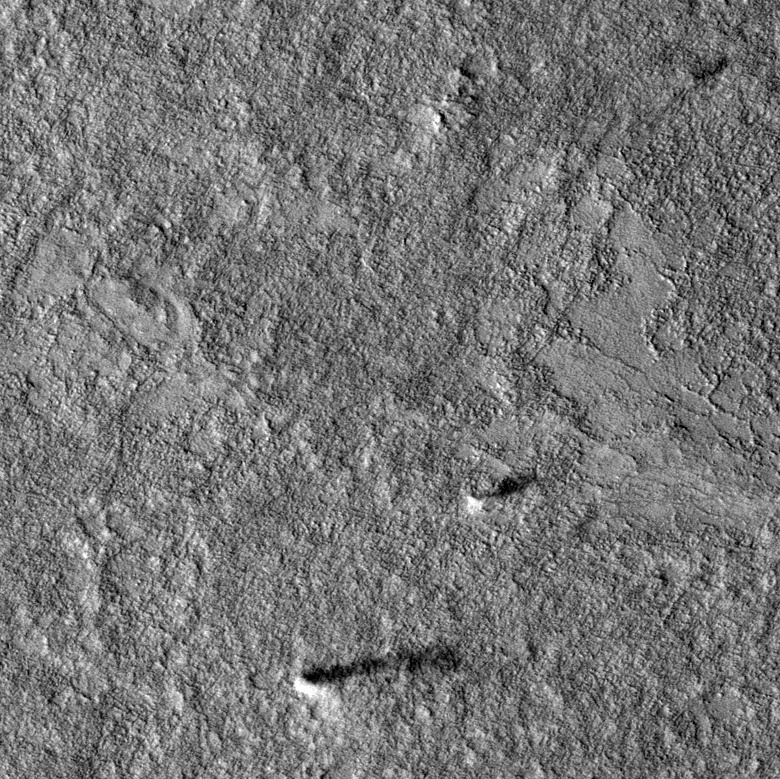dust_devil: (291, 641, 458, 709), (464, 471, 540, 515)
